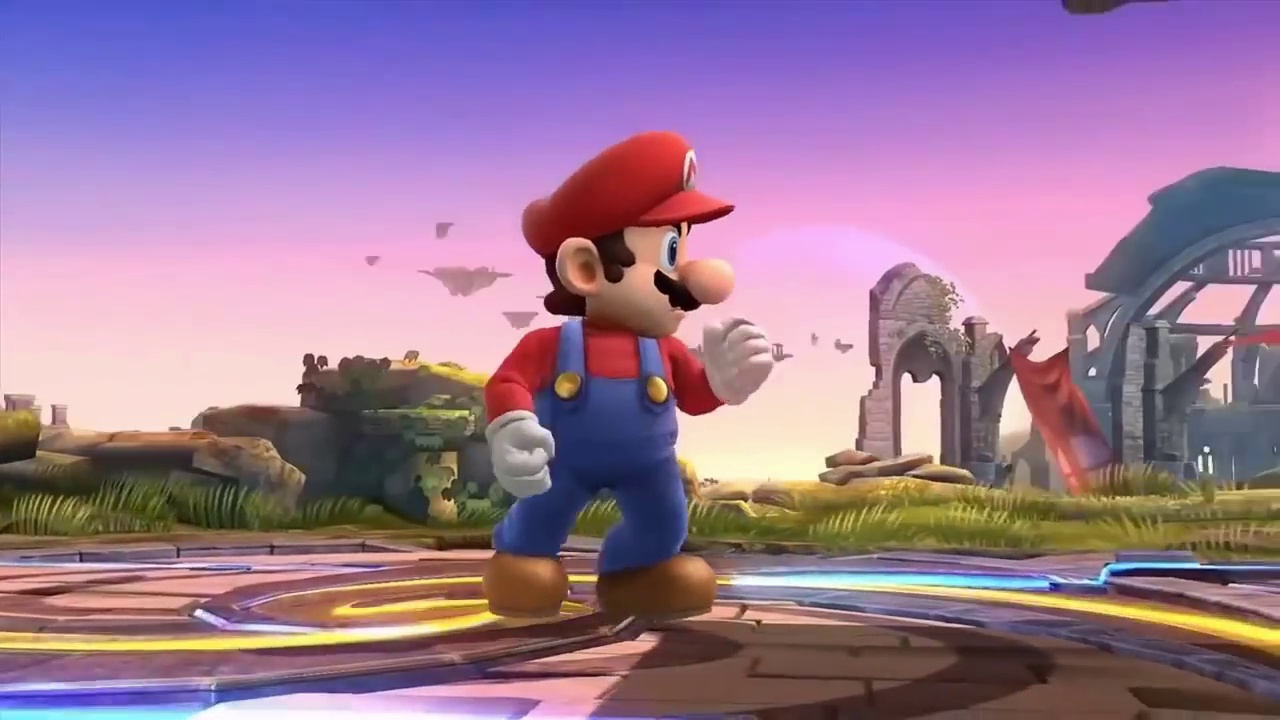Mario: (485, 131, 776, 623)
